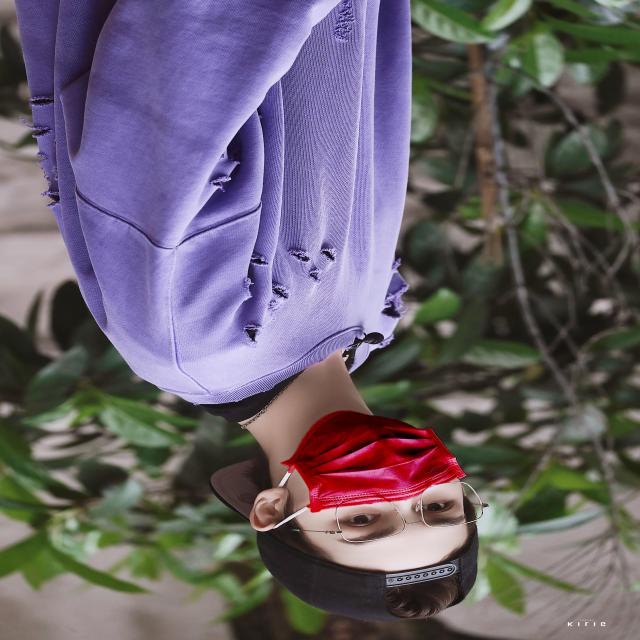Mask: (260, 408, 470, 534)
